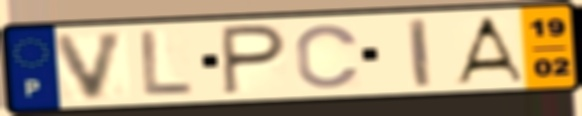A: (450, 14, 528, 85)
C: (293, 21, 364, 91)
I: (404, 15, 435, 90)
L: (138, 28, 196, 98)
P: (219, 22, 290, 97)
V: (51, 28, 131, 103)
